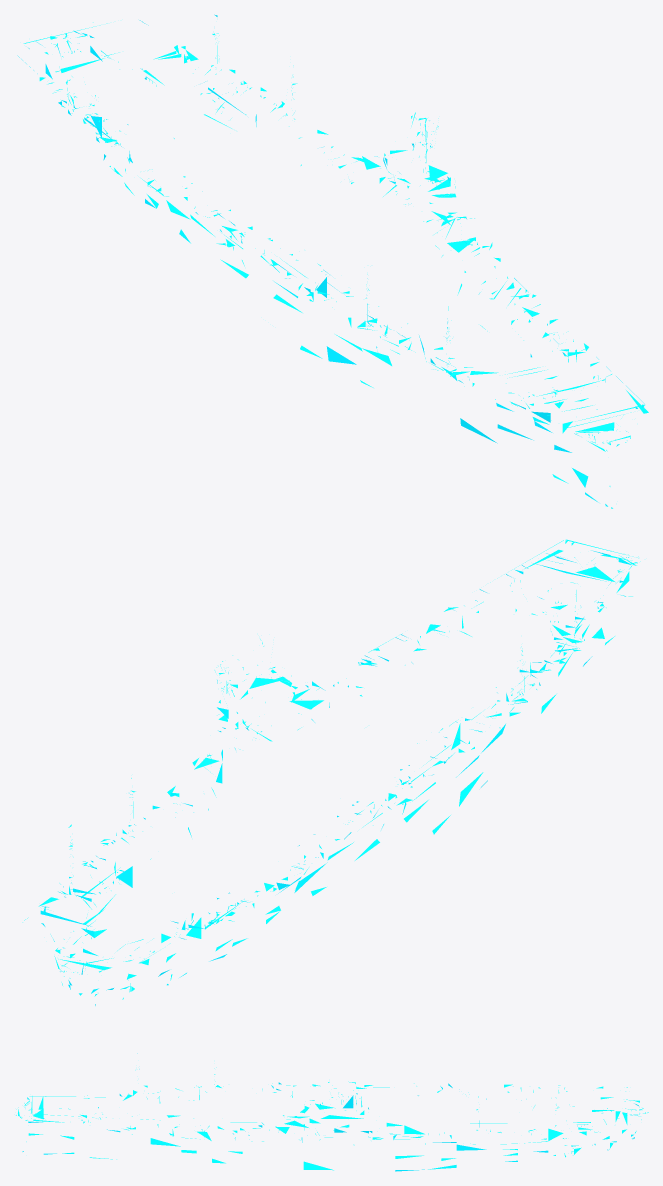
File: Shinano.glb
The picture shows the model from 3 angles, top to bottom: view 1: azimuth 30°, elevation 25°; view 2: azimuth 150°, elevation 25°; view 3: azimuth 270°, elevation 25°; orthographic projection. The views are drawn at different scales.
Size of the model in its own units: 3.87 by 3.24 by 17.77.
